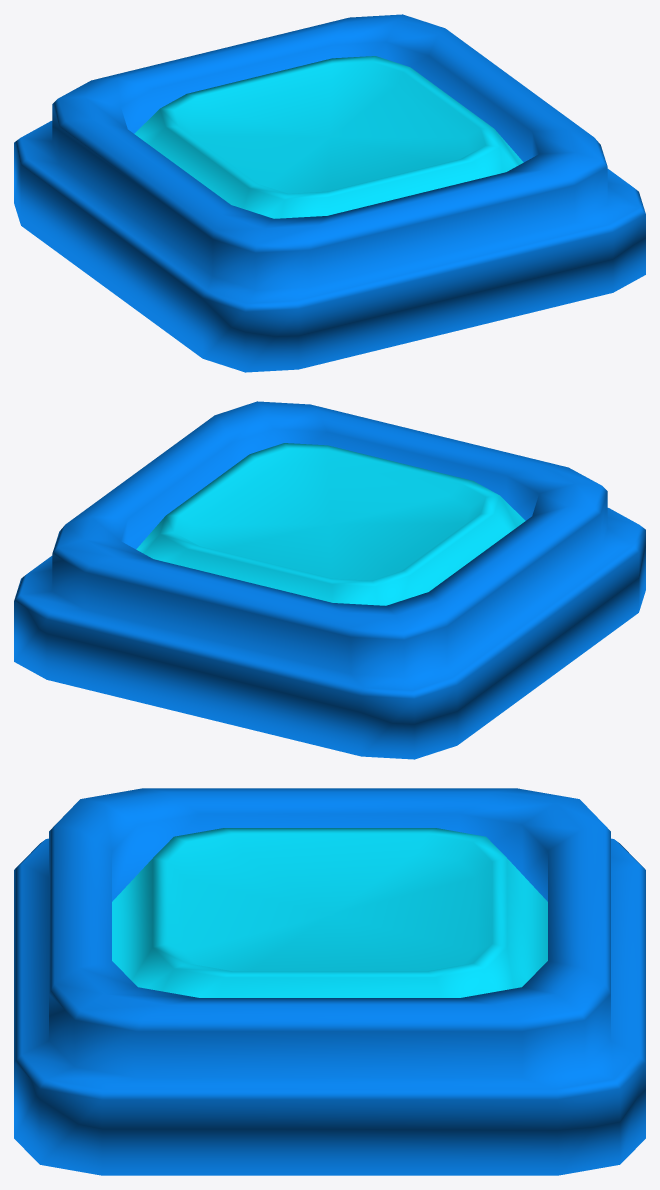
The model's file is MEC0110009.fbx.
The picture shows the model from 3 angles, top to bottom: view 1: azimuth 30°, elevation 25°; view 2: azimuth 150°, elevation 25°; view 3: azimuth 270°, elevation 25°; orthographic projection. The views are drawn at different scales.
Parts seen in each view (by area): view 1: smMEC0110009; view 2: smMEC0110009; view 3: smMEC0110009.
Part boxes in pixels (bbox=[...]): smMEC0110009: bbox=[14, 14, 645, 372]; smMEC0110009: bbox=[14, 401, 645, 759]; smMEC0110009: bbox=[14, 788, 645, 1175].
Bounding box in the file's own units: 235 × 58.88 × 235.
1 material, 1 textured.
